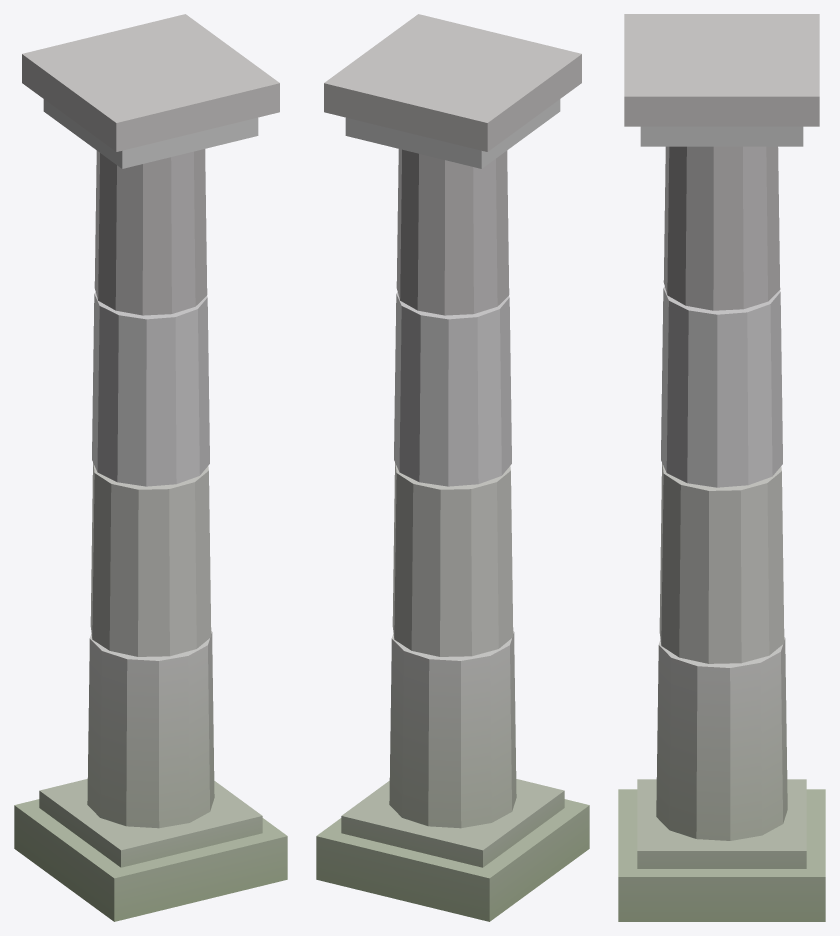
File: pillar_tall.glb
3 renders of one model, left to right at view 1: azimuth 30°, elevation 25°; view 2: azimuth 150°, elevation 25°; view 3: azimuth 270°, elevation 25°, orthographic. The views are drawn at different scales.
Visible parts, largest first — view 1: Pillar; view 2: Pillar; view 3: Pillar.
Part boxes in pixels (x1,y1,x2,y2): Pillar: (14,14,287,921); Pillar: (316,14,589,921); Pillar: (618,14,825,921).
Size of the model in its own units: 1.25 by 5.48 by 1.25.
